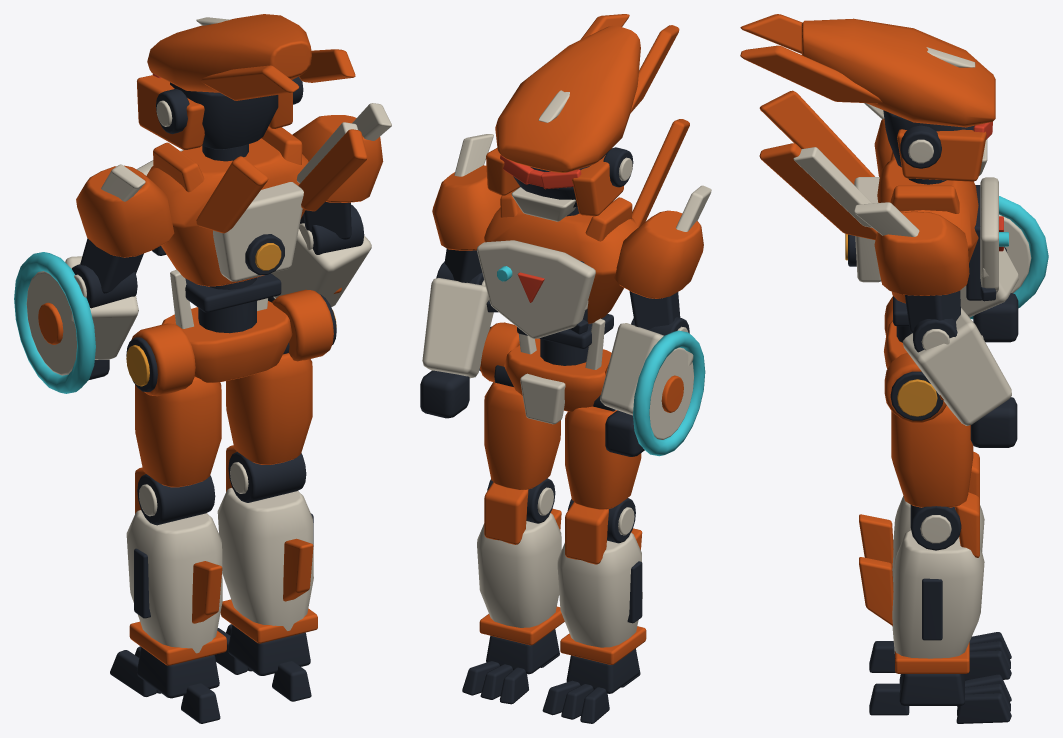
File: rusher_mobile.glb
3 renders of one model, left to right at view 1: azimuth 30°, elevation 25°; view 2: azimuth 150°, elevation 25°; view 3: azimuth 270°, elevation 25°, orthographic. The views are drawn at different scales.
Parts seen in each view (by area): view 1: Torso, LeftLeg, RightLeg, LeftArm, Helmet, RightArm, BackPlate, Head, LeftFin, LeftHorn; view 2: RightLeg, LeftLeg, LeftArm, Helmet, Torso, RightArm, ChestPlate, BackPlate, Head, RightHand, LeftFin, LeftHorn (+2 smaller); view 3: RightLeg, Helmet, RightArm, Torso, LeftLeg, LeftArm, BackPlate, LeftFin, Head, ChestPlate, RightHand, LeftHand (+1 smaller).
Part boxes in pixels (x1=…): Torso: x1=126, y1=126, x2=367, y2=396; LeftLeg: x1=110, y1=376, x2=226, y2=723; RightLeg: x1=214, y1=342, x2=317, y2=701; LeftArm: x1=14, y1=164, x2=174, y2=393; Helmet: x1=137, y1=14, x2=355, y2=149; RightArm: x1=271, y1=103, x2=391, y2=306; BackPlate: x1=170, y1=122, x2=357, y2=328; Head: x1=156, y1=76, x2=303, y2=149; LeftFin: x1=196, y1=156, x2=268, y2=233; LeftHorn: x1=200, y1=65, x2=299, y2=100; RightLeg: x1=462, y1=365, x2=564, y2=704; LeftLeg: x1=542, y1=395, x2=646, y2=723; LeftArm: x1=600, y1=185, x2=711, y2=456; Helmet: x1=486, y1=14, x2=640, y2=216; Torso: x1=479, y1=189, x2=637, y2=411; RightArm: x1=422, y1=134, x2=501, y2=378; ChestPlate: x1=477, y1=240, x2=595, y2=338; BackPlate: x1=518, y1=301, x2=605, y2=424; Head: x1=511, y1=147, x2=633, y2=221; RightHand: x1=420, y1=370, x2=469, y2=418; LeftFin: x1=632, y1=119, x2=689, y2=227; LeftHorn: x1=630, y1=25, x2=679, y2=113; RightLeg: x1=859, y1=405, x2=1011, y2=723; Helmet: x1=740, y1=18, x2=995, y2=181; RightArm: x1=854, y1=202, x2=1011, y2=425; Torso: x1=759, y1=143, x2=1008, y2=422; LeftLeg: x1=859, y1=451, x2=1011, y2=680; LeftArm: x1=864, y1=103, x2=1048, y2=319; BackPlate: x1=793, y1=147, x2=988, y2=338; LeftFin: x1=759, y1=90, x2=874, y2=184; Head: x1=883, y1=110, x2=987, y2=175; ChestPlate: x1=980, y1=177, x2=1003, y2=292; RightHand: x1=970, y1=397, x2=1017, y2=447; LeftHand: x1=973, y1=293, x2=1018, y2=342.
Size of the model in its own units: 0.8749 by 1.98 by 0.8267.
